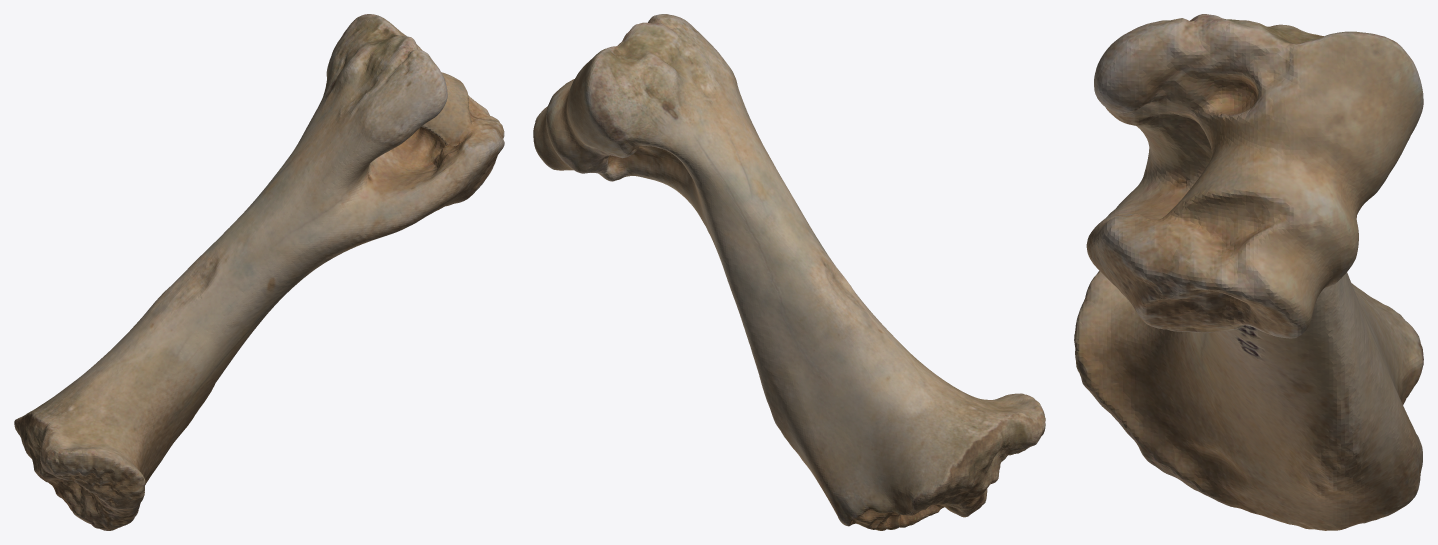
3 renders of one model, left to right at view 1: azimuth 30°, elevation 25°; view 2: azimuth 150°, elevation 25°; view 3: azimuth 270°, elevation 25°, orthographic. The views are drawn at different scales.
Parts seen in each view (by area): view 1: Node; view 2: Node; view 3: Node.
Boxes of the visible parts, <box> form: Node: <box>14,14,504,530</box>; Node: <box>533,14,1045,530</box>; Node: <box>1074,14,1423,530</box>.
Size of the model in its own units: 218 by 185 by 79.37.
1 material, 1 textured.
